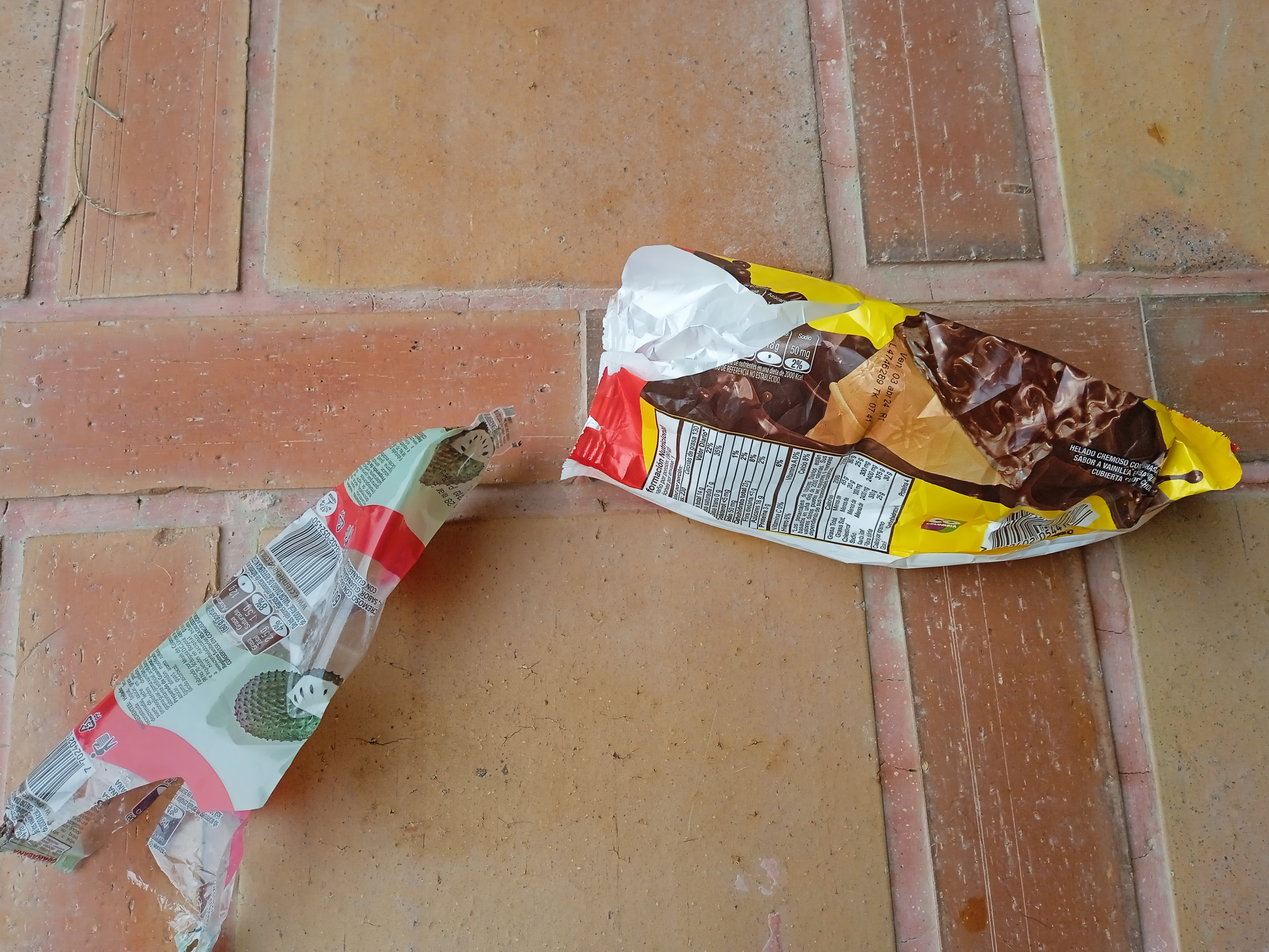plastic: (0, 379, 526, 952), (568, 239, 1269, 628)
